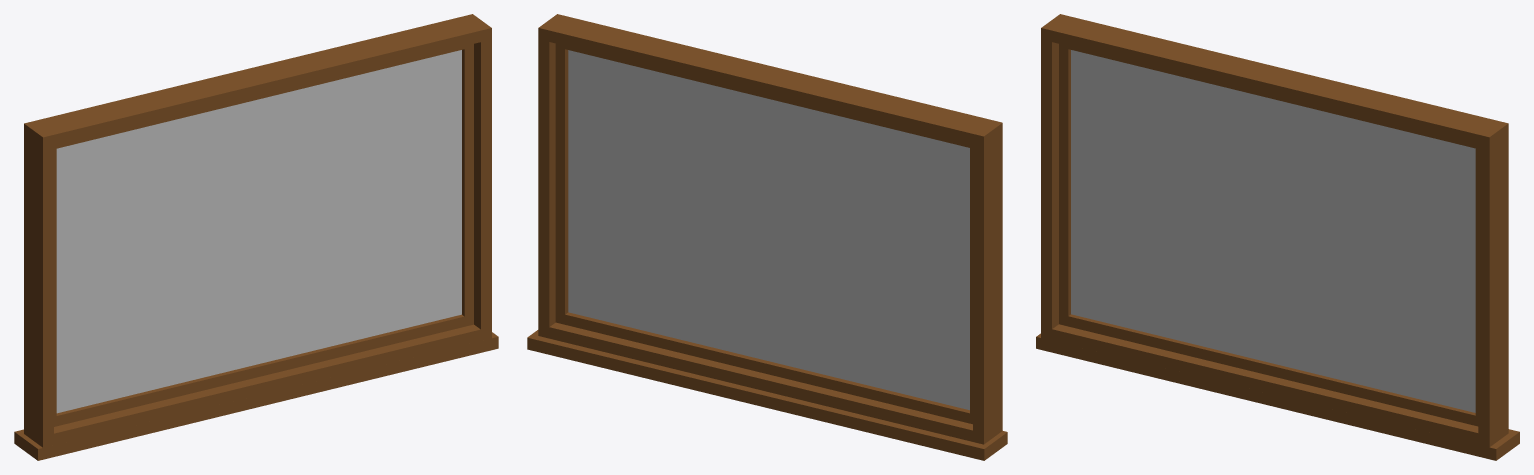
Rendered from Windows2.dae.
The picture shows the model from 3 angles, left to right: view 1: azimuth 30°, elevation 25°; view 2: azimuth 150°, elevation 25°; view 3: azimuth 330°, elevation 25°; orthographic projection.
Parts seen in each view (by area): view 1: Glass_001, Window_001; view 2: Glass_001, Window_001; view 3: Glass_001, Window_001.
Boxes of the visible parts, x1,y1,x2,y2 form: Glass_001: [56, 50, 461, 413]; Window_001: [14, 14, 498, 460]; Glass_001: [568, 50, 969, 410]; Window_001: [527, 14, 1007, 460]; Glass_001: [1071, 50, 1475, 412]; Window_001: [1036, 14, 1519, 460].
Bounding box in the file's own units: 2.28 × 0.2029 × 1.53.
